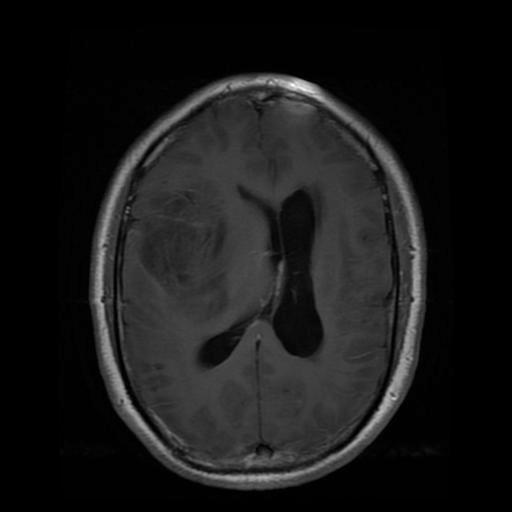Tumour-Glioma: (136, 180, 238, 329)
